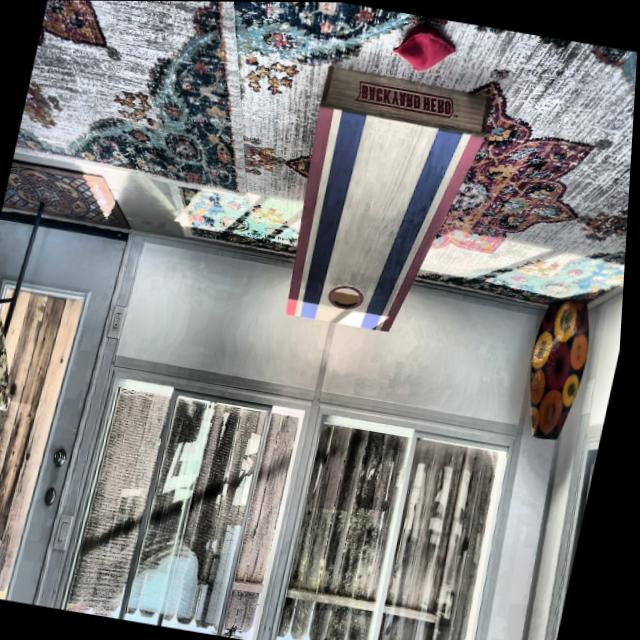board: (286, 105, 450, 332)
hole: (329, 281, 369, 312)
red-bean-bag: (389, 18, 461, 76)
